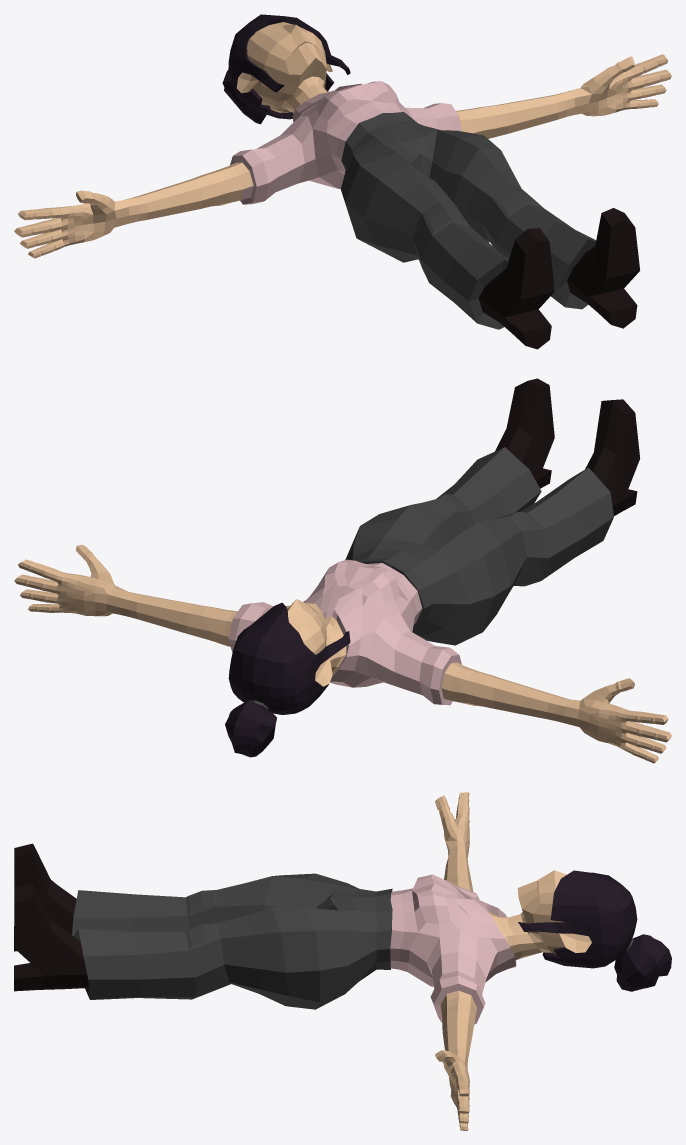
Rendered from Millicent_Humanoide.fbx.
3 views of the same model, one above another, from view 1: azimuth 30°, elevation 25°; view 2: azimuth 150°, elevation 25°; view 3: azimuth 270°, elevation 25° (orthographic). The views are drawn at different scales.
Visible parts, largest first — view 1: Millicent; view 2: Millicent; view 3: Millicent.
Boxes of the visible parts, x1,y1,x2,y2 form: Millicent: (14,14,671,349); Millicent: (14,378,671,763); Millicent: (14,792,671,1130).
Bounding box in the file's own units: 196 × 39.41 × 180.
